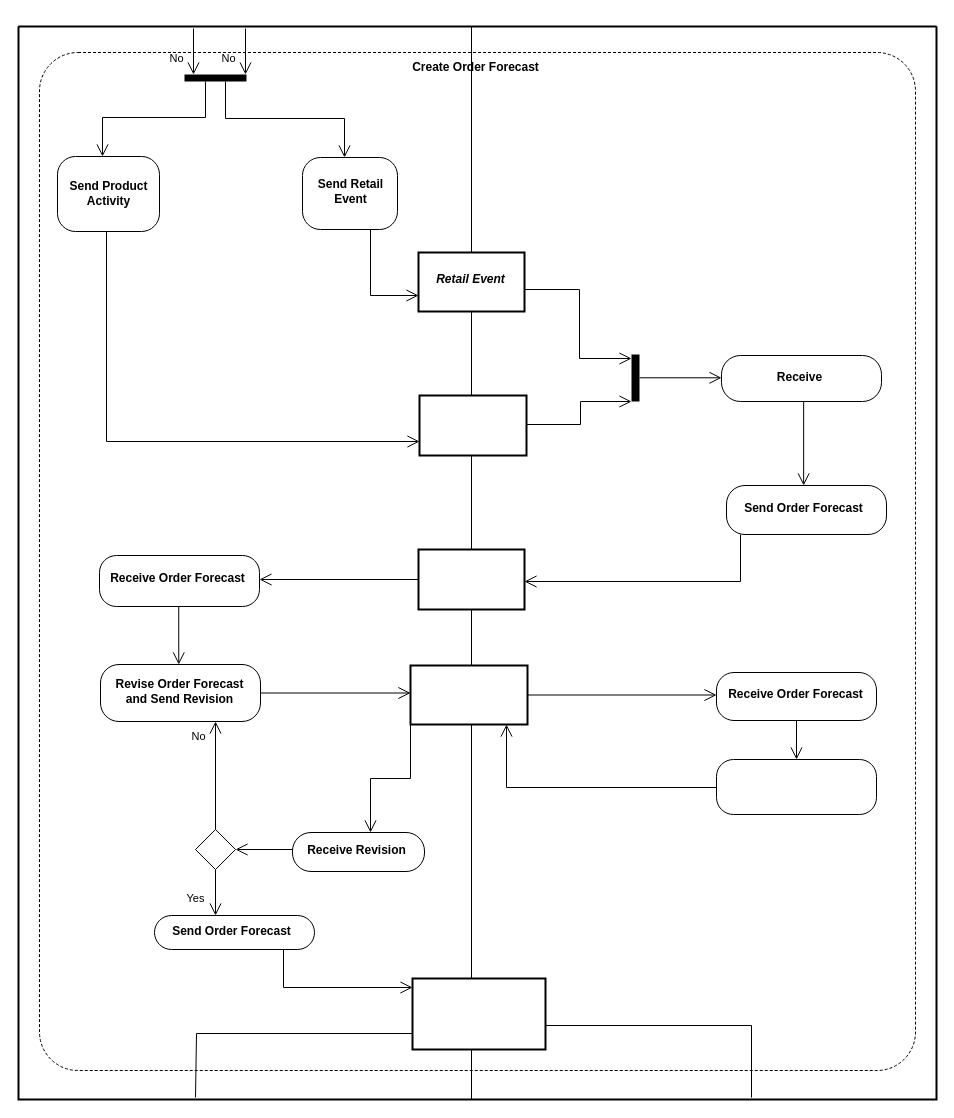
Image size: 954x1118. Some labels were removed from this diagram. Each missing label, with the centre of its shape:
"Forecast (order - positive response)" belongs at [478,1013].
"Forecast (order)" belongs at [471,579].
"Forecast Revision (order)" belongs at [468,694].
"Order Forecast Accepted ?" belongs at [215,849].
"Product Activity" belongs at [472,425].
"Revise Order Forecast and Resend Revision" belongs at [796,786].
